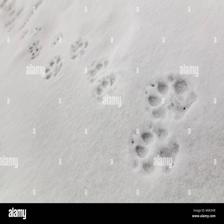wolf: (128, 120, 185, 177), (142, 74, 205, 123)
